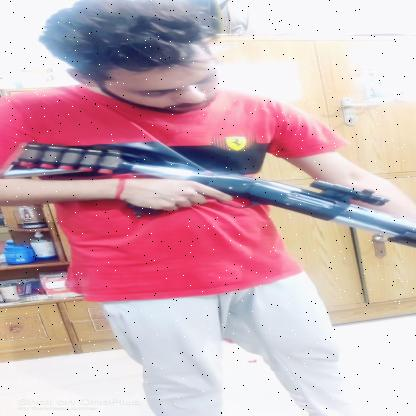rifle: (0, 139, 415, 248)
